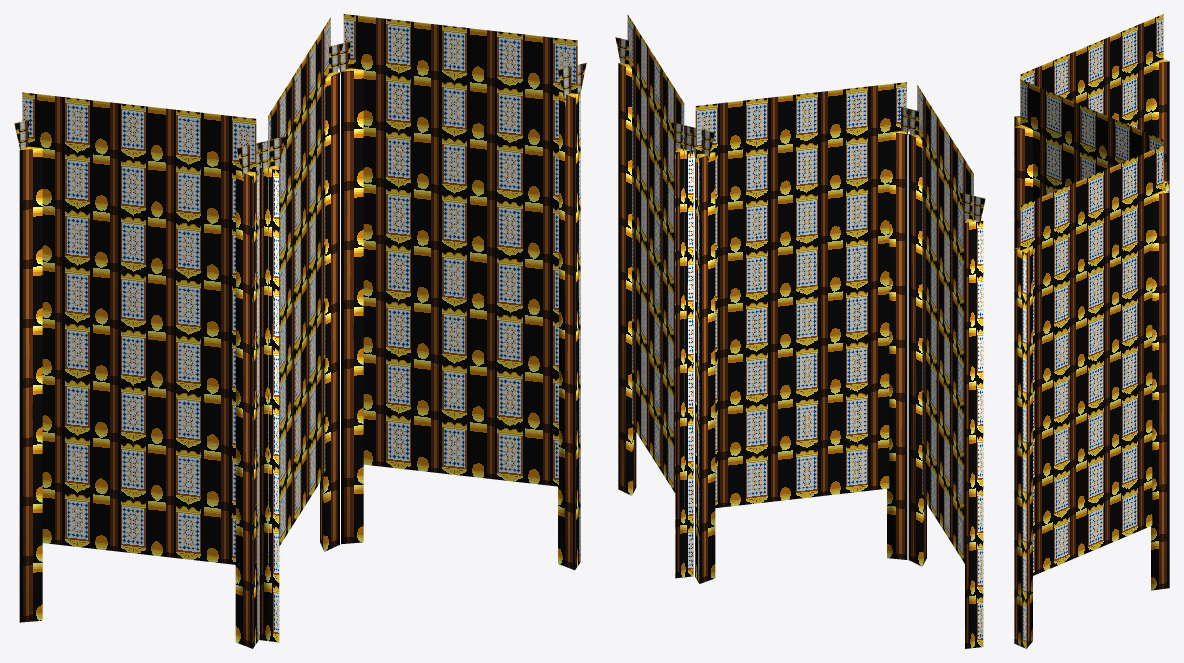
3 renders of one model, left to right at view 1: azimuth 30°, elevation 25°; view 2: azimuth 150°, elevation 25°; view 3: azimuth 270°, elevation 25°, orthographic. The views are drawn at different scales.
Visible parts, largest first — view 1: 3369kg_sh2_10; view 2: 3369kg_sh2_10; view 3: 3369kg_sh2_10.
Part boxes in pixels (x1=…): 3369kg_sh2_10: x1=14, y1=14, x2=586, y2=648; 3369kg_sh2_10: x1=615, y1=14, x2=985, y2=648; 3369kg_sh2_10: x1=1014, y1=14, x2=1169, y2=648.
Bounding box in the file's own units: 1.92 × 1.96 × 0.6257.
1 material, 1 textured.
